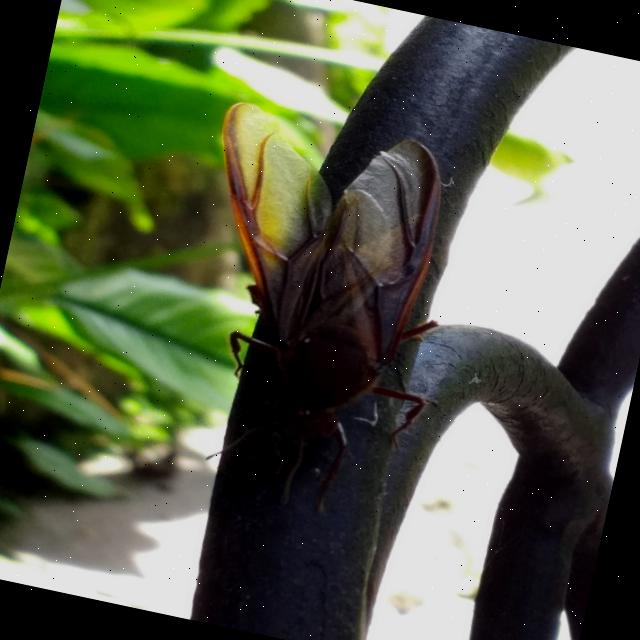Alive-Female-Alate: (145, 97, 482, 531)
